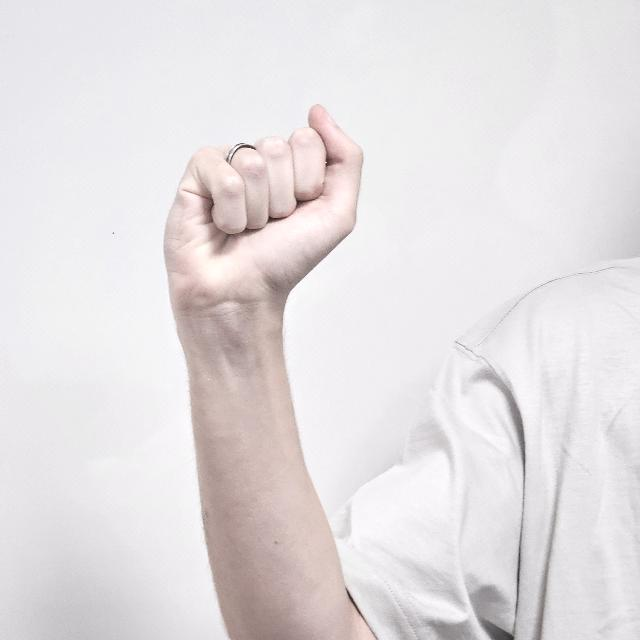Quadro: (163, 100, 364, 320)
